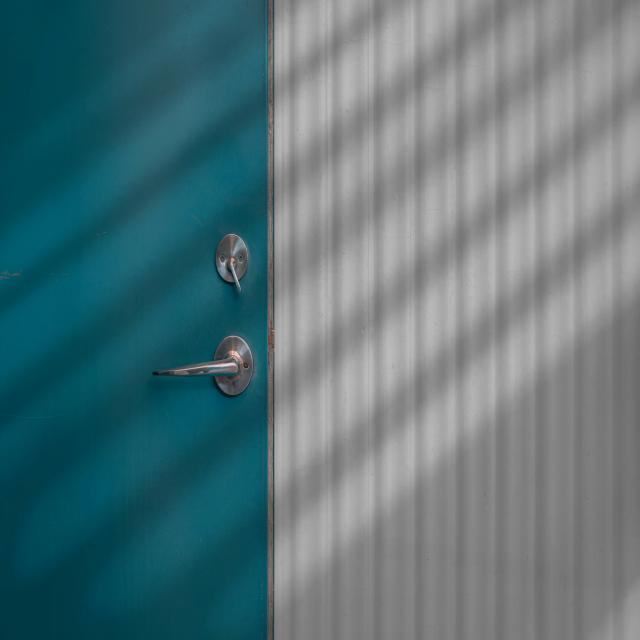door-handle: (153, 336, 255, 399)
